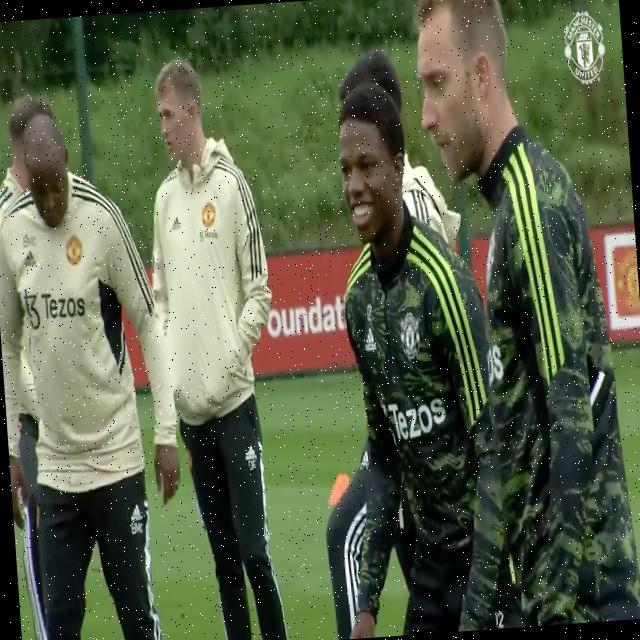Adidas: (363, 325, 378, 352), (129, 502, 145, 522), (22, 249, 37, 269), (169, 214, 183, 234), (244, 443, 258, 463)
